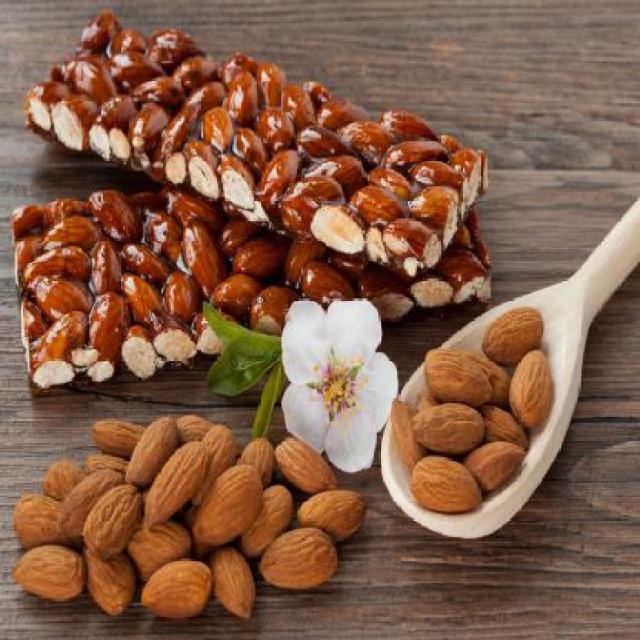Frutta secca: (19, 420, 368, 622), (392, 312, 548, 520)
